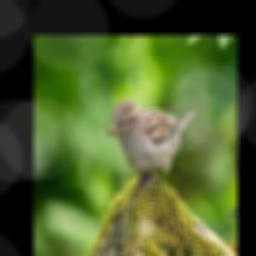Sparrow: (107, 97, 200, 186)
